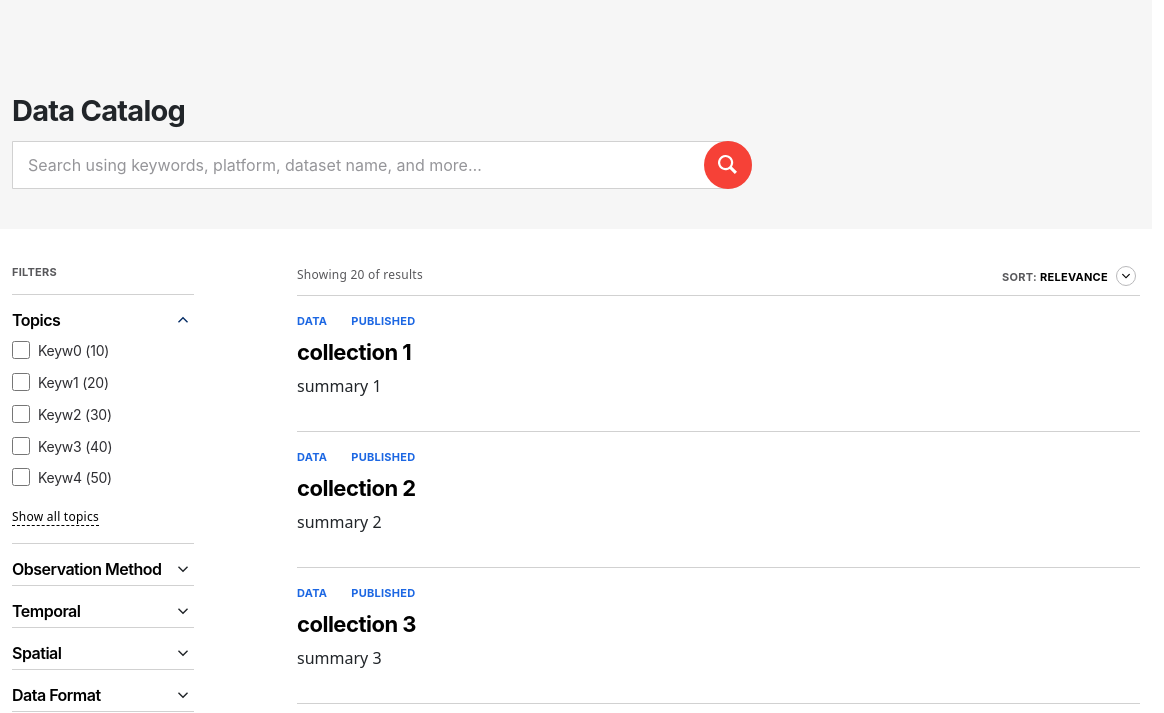
Test: DataCatalog › keyword search debouncing › debounces keyword search input
Type 'test' quickly
Type "test" into the search field with placeholder "Search using keywords, platform, dataset name, and more…".
click(382, 165); type("test")  # box [12,141,752,189]
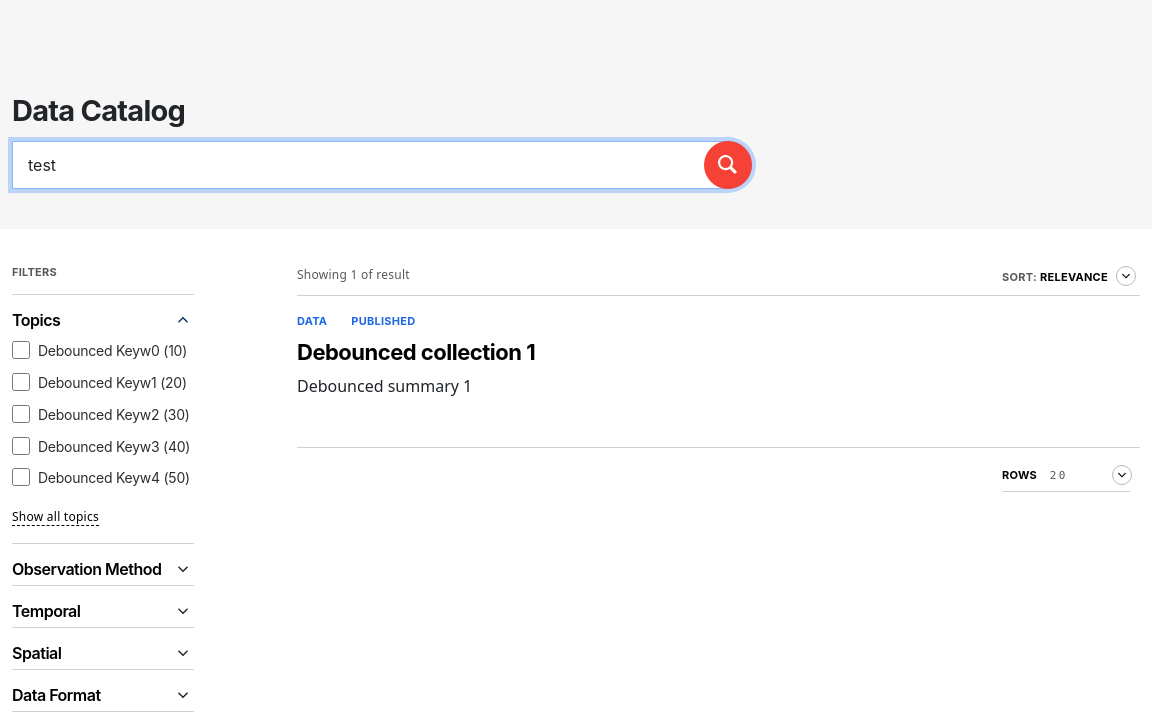
Now the link "Debounced collection 1" is shown, box [297,339,535,365]
